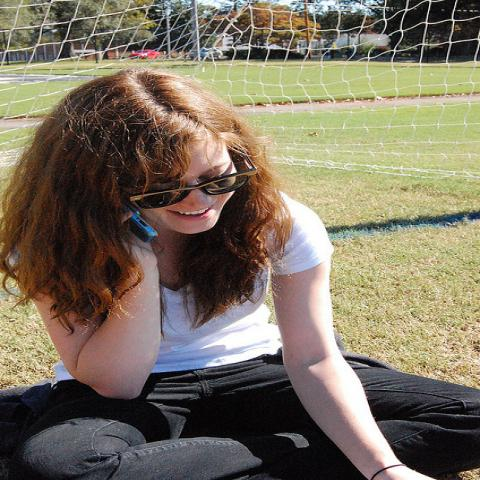car: (189, 47, 221, 58), (128, 50, 160, 60)
